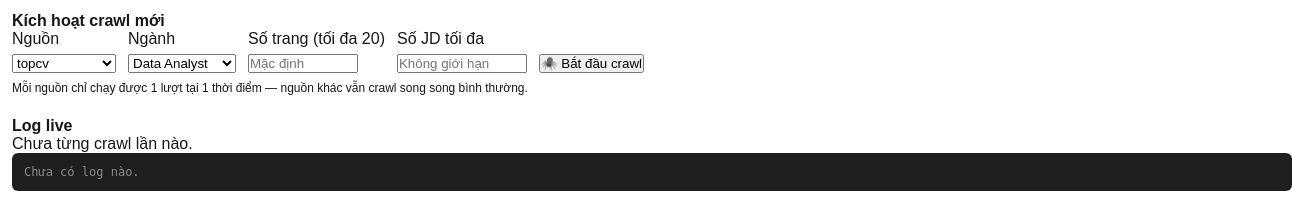
Test: CrawlTrigger Component › Đổi nguồn -> reset category › chọn nguồn khác thì category tự về option đầu tiên của nguồn đó
The image size is (1292, 208).
Expected: the dropdown labelled "Ngành" shows "Data Analyst", [128,54,236,73]
Select "vietnamworks" in the dropdown labelled "Nguồn": x=64, y=64 [12,54,116,73]
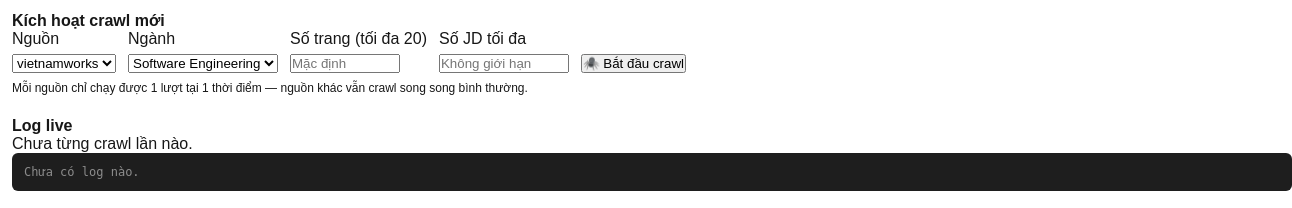
Now the dropdown labelled "Ngành" shows "Software Engineering", box [128,54,278,73]
